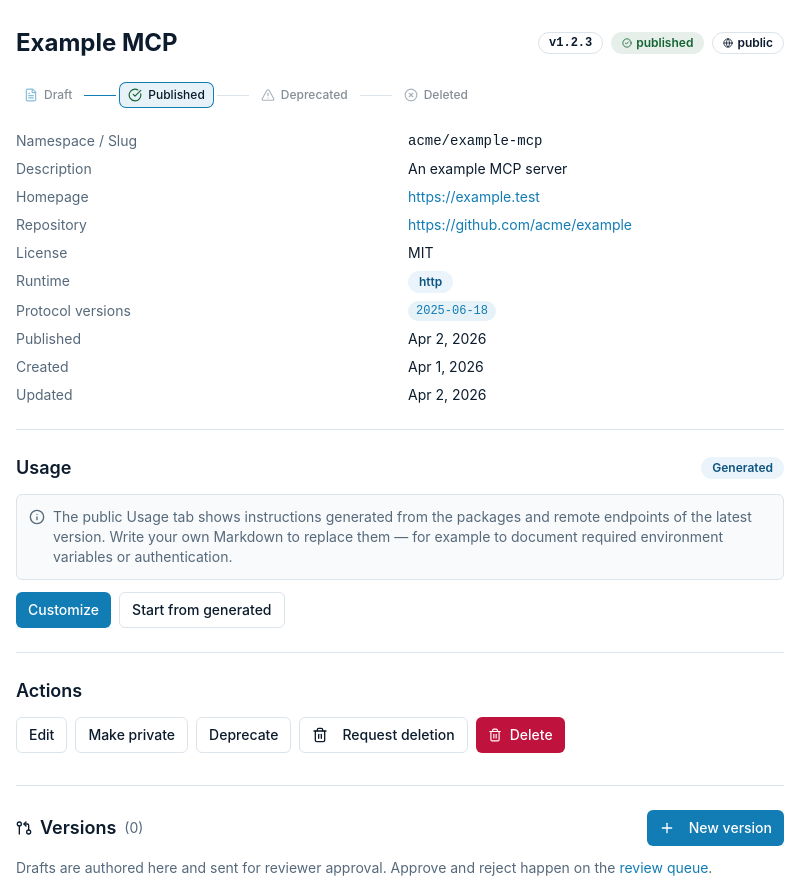
Test: AdminMCPDetail › opens and cancels the edit form without firing a PATCH
Expected: the heading "Example MCP" is shown, [16,28,178,57]
Click the button "Edit" at [42, 735], box [16,717,67,753]
(page scrolled)
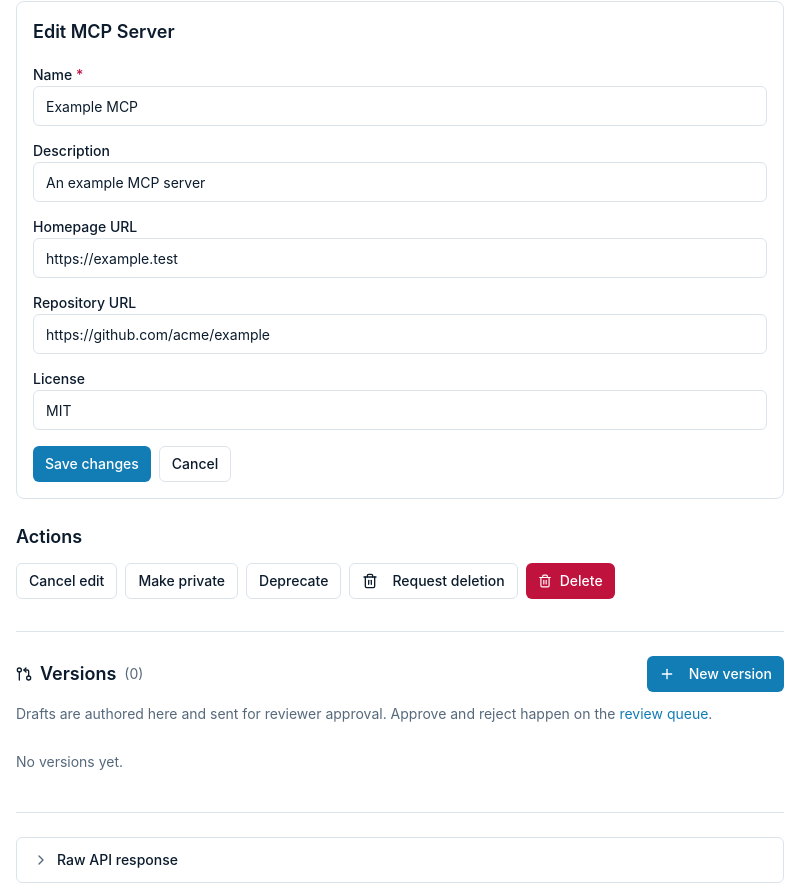
Expected: the heading "Edit MCP Server" is shown, [33,21,174,42]
Click the button "Cancel" at [195, 464], box [159,446,231,482]
(page scrolled)
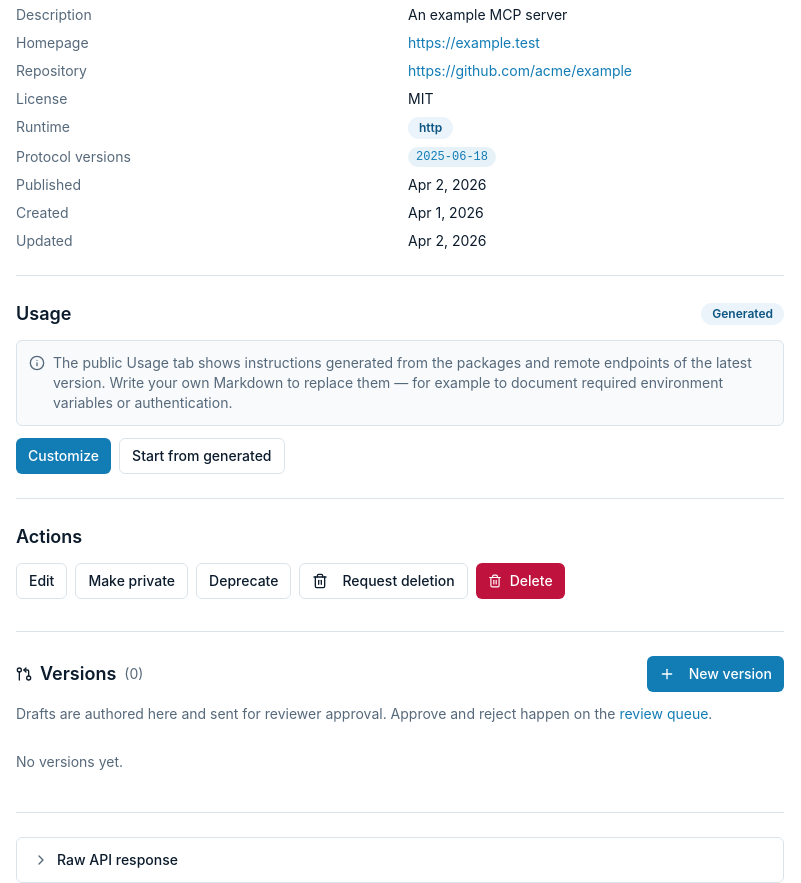
Expected: the heading "Edit MCP Server" is gone
